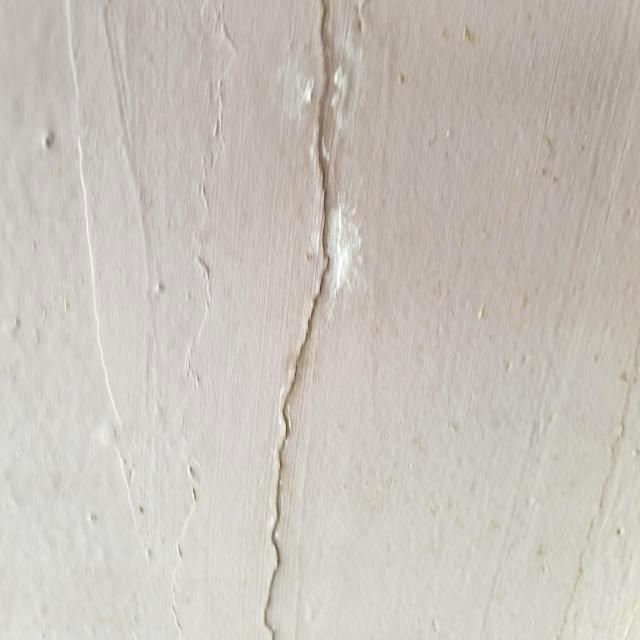SurfaceCrack: (225, 0, 385, 640)
